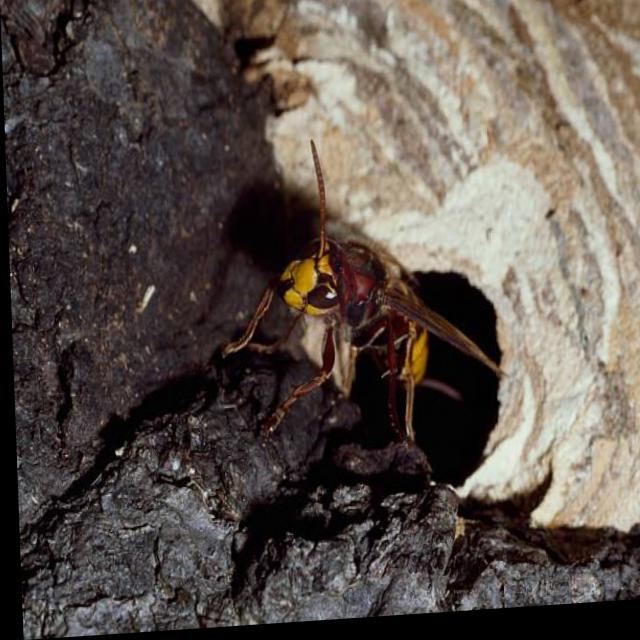Vespa Crabro: (202, 112, 527, 496)
